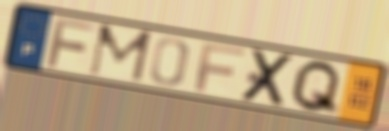0: (147, 37, 192, 88)
F: (44, 15, 100, 70), (192, 41, 248, 94)
M: (85, 22, 155, 85)
Q: (287, 59, 344, 118)
X: (237, 47, 299, 108)
